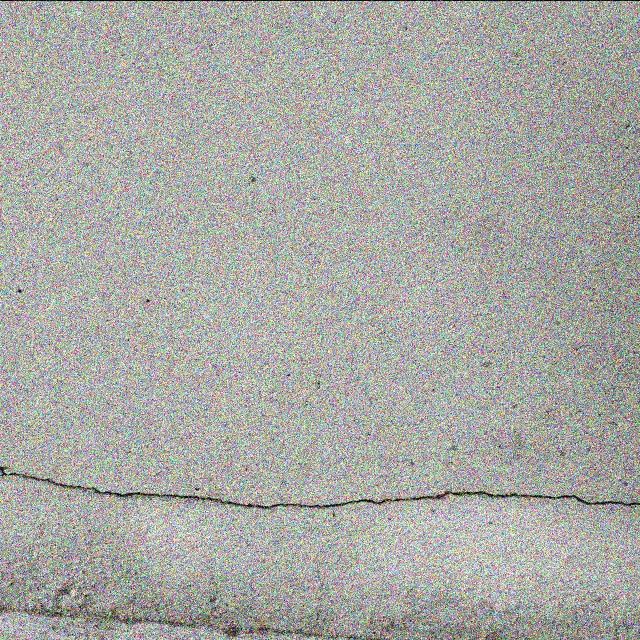SurfaceCrack: (1, 429, 640, 550)
